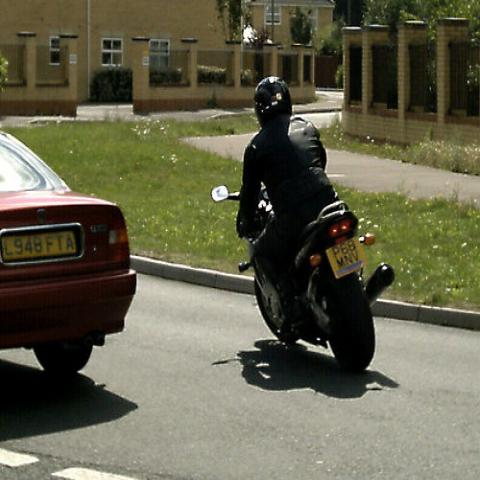car: (2, 126, 138, 374)
motorcycle: (292, 198, 394, 377)
